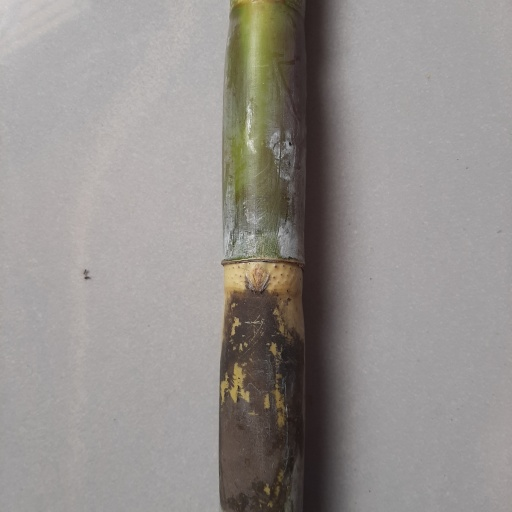Bud: (247, 263, 270, 294)
